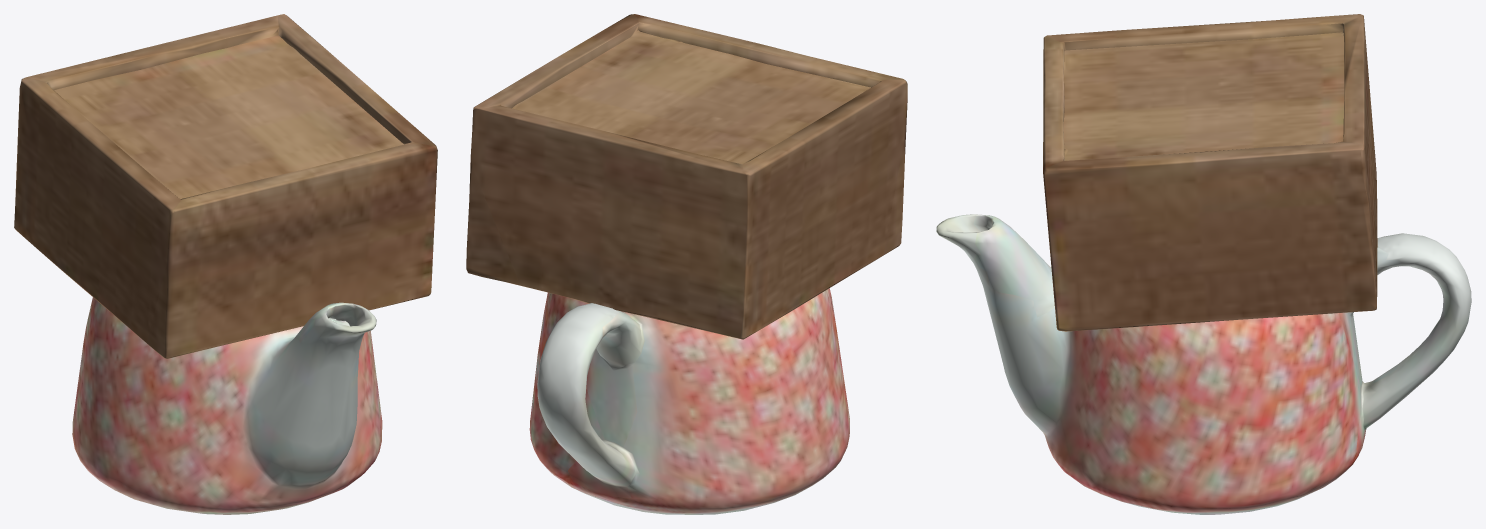
Rendered from glb.glb.
The picture shows the model from 3 angles, left to right: view 1: azimuth 30°, elevation 25°; view 2: azimuth 150°, elevation 25°; view 3: azimuth 270°, elevation 25°; orthographic projection. The views are drawn at different scales.
Visible parts, largest first — view 1: ProcessedMeshNode; view 2: ProcessedMeshNode; view 3: ProcessedMeshNode.
Part boxes in pixels (x1,y1,x2,y2): ProcessedMeshNode: [14, 14, 437, 514]; ProcessedMeshNode: [466, 14, 907, 514]; ProcessedMeshNode: [936, 14, 1471, 514].
Bounding box in the file's own units: 0.1081 × 0.1404 × 0.1785.
1 material, 1 textured.
